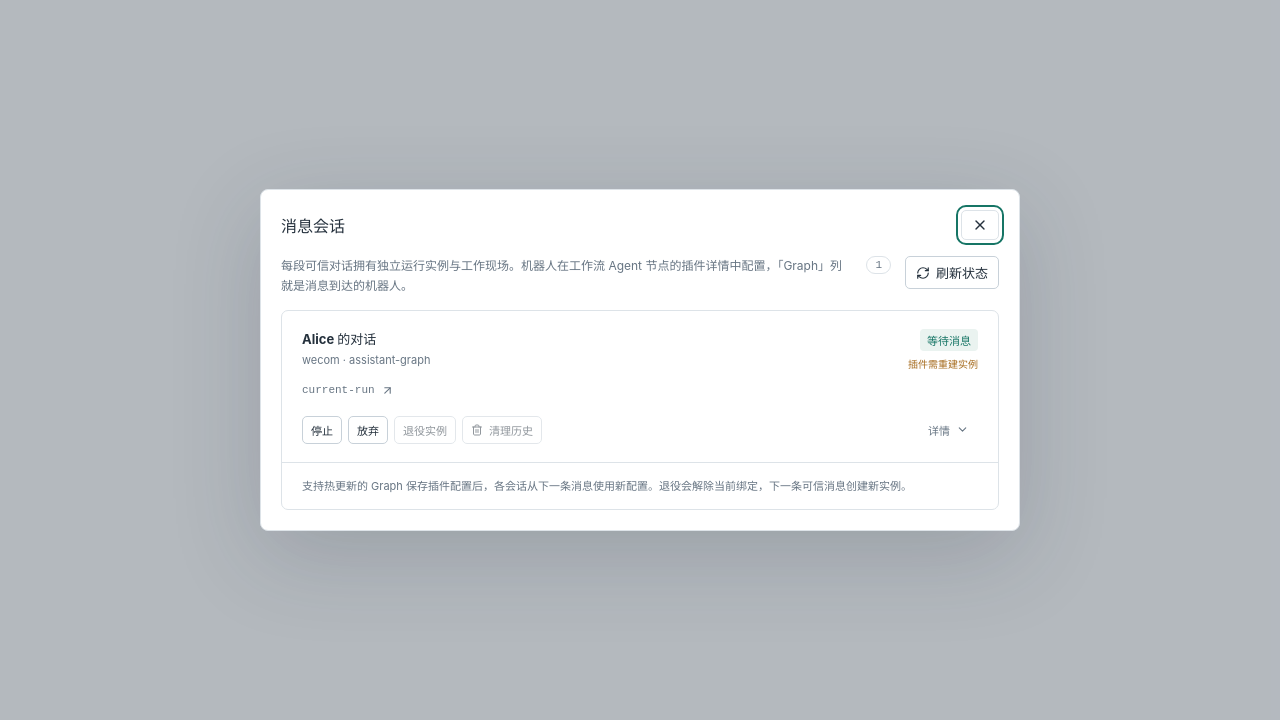
it: message session management › shows server plugin state restart_required without claiming it has applied
This screenshot has width=1280, height=720.
Check: the message with class "channels-plugin-state" reads "插件需重建实例", box [908,358,978,370]
Click the button "详情" at (948, 430), box [919,416,978,444]
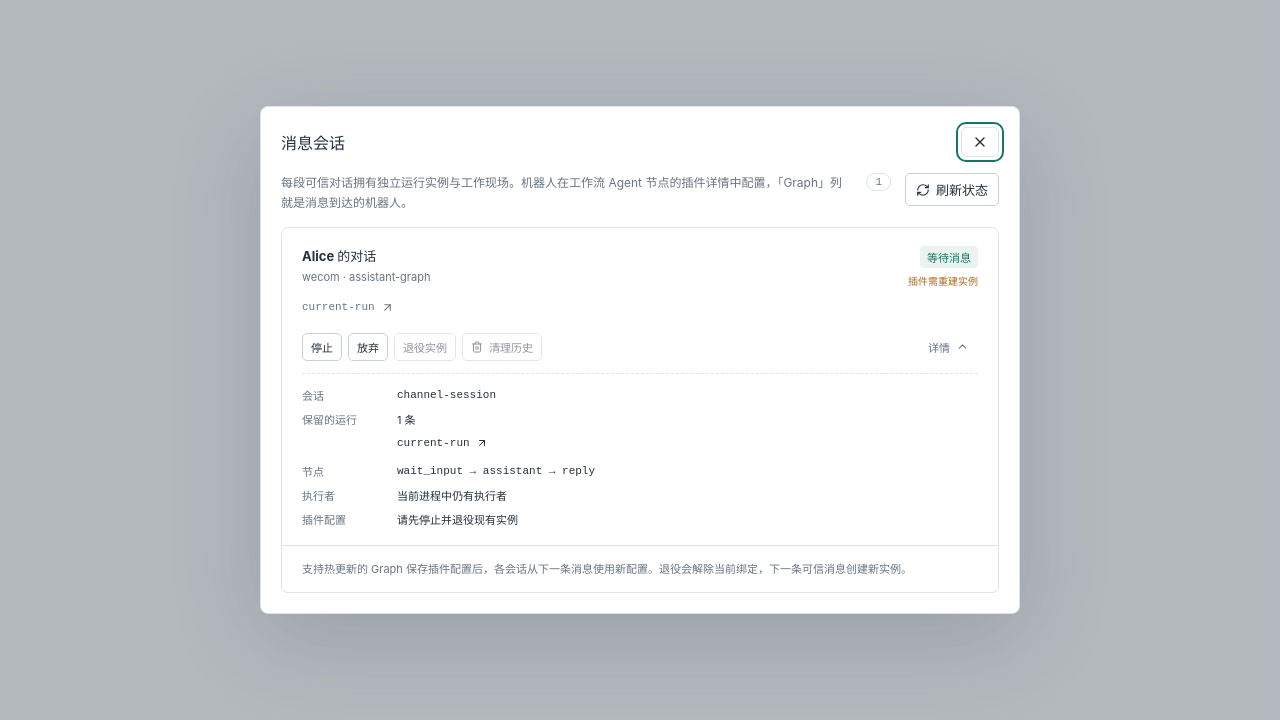
Check: the element with class "channels-instance-details" shows "请先停止并退役现有实例", box [397,513,518,527]
